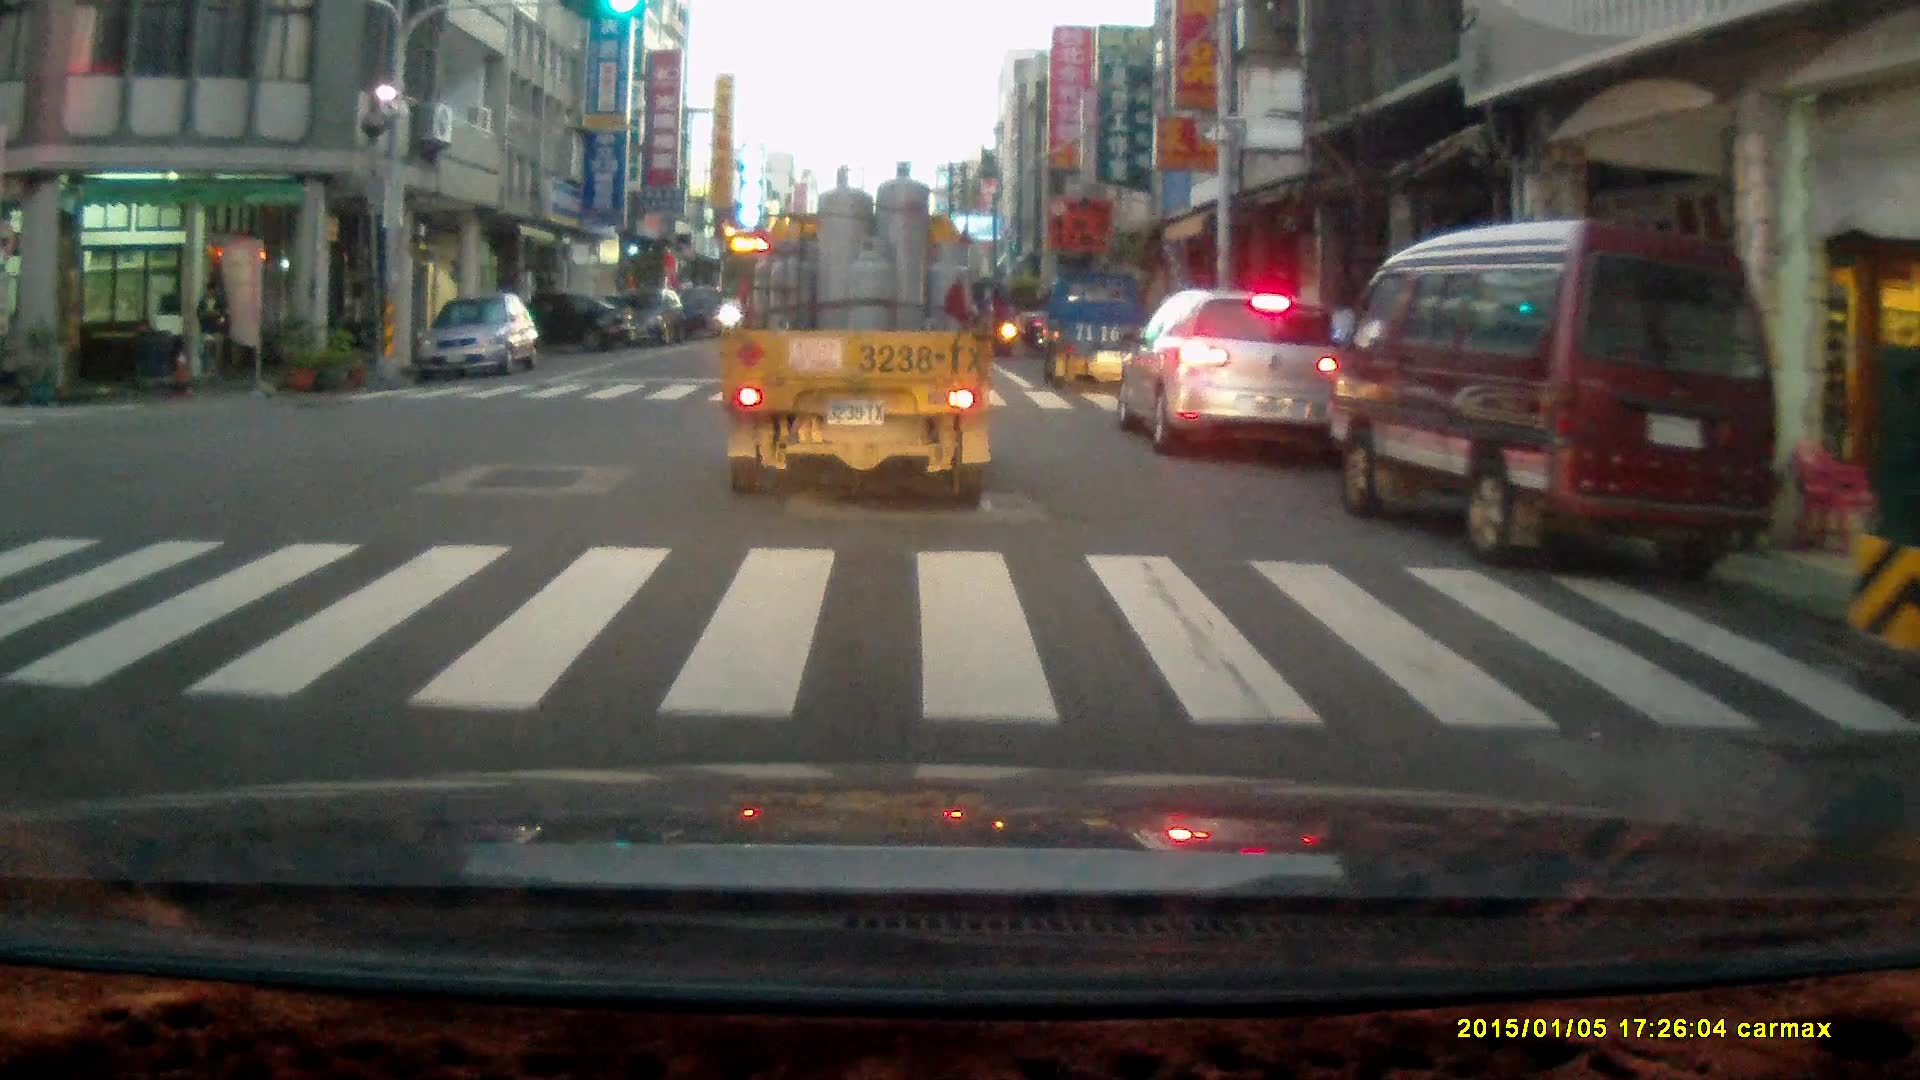pedestrian: (195, 276, 229, 393)
vehicle: (1326, 215, 1779, 589), (721, 163, 996, 509), (1118, 288, 1355, 468), (1043, 273, 1169, 404), (411, 291, 534, 384), (477, 295, 631, 362), (590, 288, 687, 347)
